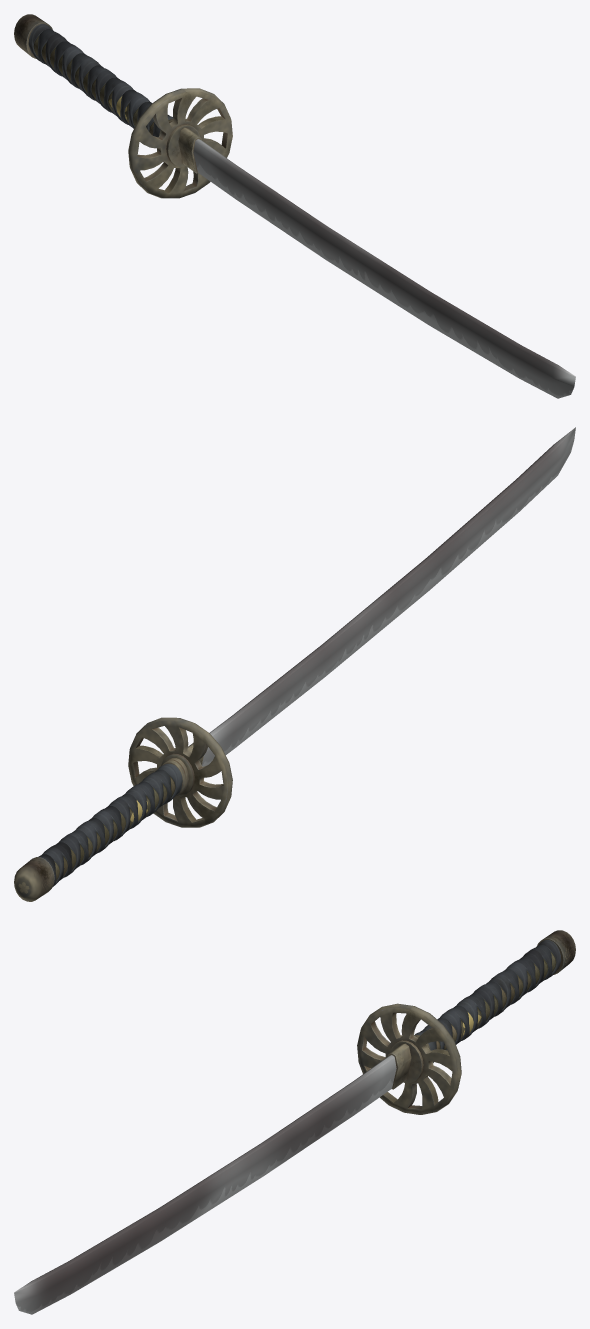
File: game_ready_samurai_katana.glb
The picture shows the model from 3 angles, top to bottom: view 1: azimuth 30°, elevation 25°; view 2: azimuth 150°, elevation 25°; view 3: azimuth 330°, elevation 25°; orthographic projection.
Parts seen in each view (by area): view 1: hammon_low, tsuba_low, same_low, tsuka_low, kasira_low, hammon_buttom_low, sepa_2_low; view 2: hammon_low, tsuba_low, same_low, kasira_low, tsuka_low; view 3: hammon_low, tsuba_low, same_low, tsuka_low, kasira_low, hammon_buttom_low, sepa_2_low.
Part boxes in pixels (<box>): hammon_low: <box>193,139,575,398</box>; tsuba_low: <box>128,88,232,198</box>; same_low: <box>37,29,153,131</box>; tsuka_low: <box>33,35,154,135</box>; kasira_low: <box>14,14,52,58</box>; hammon_buttom_low: <box>178,127,201,173</box>; sepa_2_low: <box>166,124,200,166</box>; hammon_low: <box>202,427,575,766</box>; tsuba_low: <box>128,717,232,827</box>; same_low: <box>42,769,171,885</box>; kasira_low: <box>14,857,54,901</box>; tsuka_low: <box>54,776,175,880</box>; hammon_low: <box>14,1055,396,1314</box>; tsuba_low: <box>357,1003,461,1114</box>; same_low: <box>423,945,552,1050</box>; tsuka_low: <box>436,951,556,1049</box>; kasira_low: <box>537,930,575,974</box>; hammon_buttom_low: <box>388,1043,411,1089</box>; sepa_2_low: <box>389,1040,423,1082</box>.
Bounding box in the file's own units: 6.69 × 6.83 × 61.99.
Materials: 1 (1 with a texture image).
